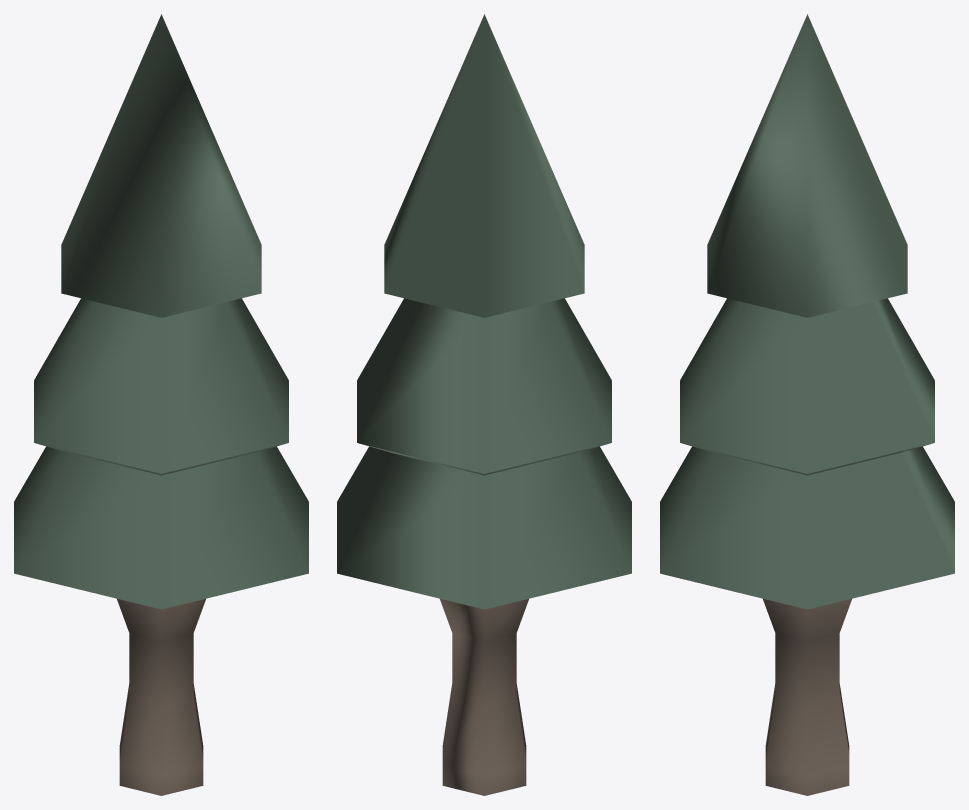
File: Overworld prop - Tree 1.fbx
3 views of the same model, side by side, from view 1: azimuth 30°, elevation 25°; view 2: azimuth 150°, elevation 25°; view 3: azimuth 270°, elevation 25° (orthographic).
Visible parts, largest first — view 1: pCone1; view 2: pCone1; view 3: pCone1.
Part boxes in pixels (bbox=[...]): pCone1: bbox=[14, 14, 308, 795]; pCone1: bbox=[337, 14, 631, 795]; pCone1: bbox=[660, 14, 954, 795].
Size of the model in its own units: 2.42 by 5.98 by 2.1.
